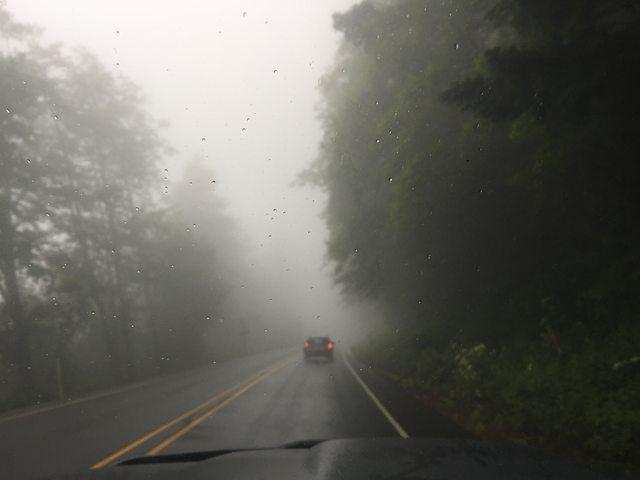car: (302, 334, 335, 362)
